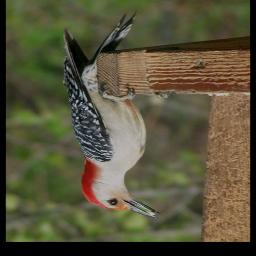Woodpecker: (63, 10, 163, 219)
